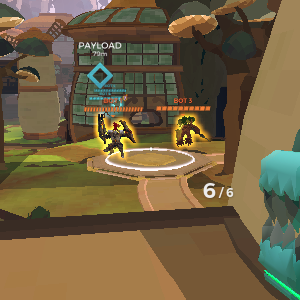model: (96, 112, 131, 159), (175, 114, 202, 152)
